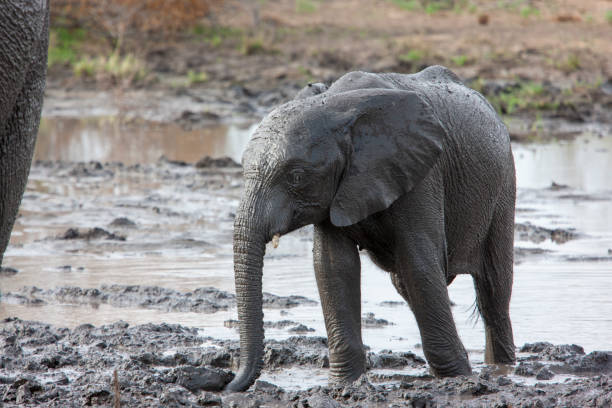africanelephant: (185, 78, 415, 270)
